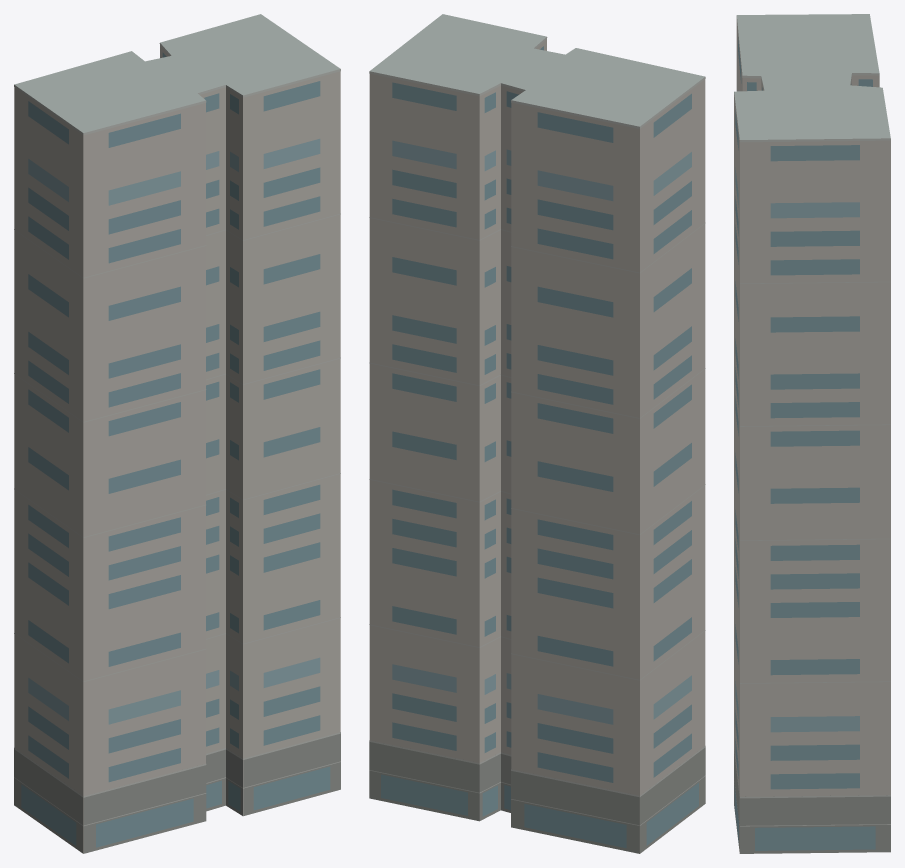
Rendered from survey-upis-32728907.glb.
3 renders of one model, left to right at view 1: azimuth 30°, elevation 25°; view 2: azimuth 150°, elevation 25°; view 3: azimuth 270°, elevation 25°, orthographic.
Visible parts, largest first — view 1: survey-upis-32728907.tmp; view 2: survey-upis-32728907.tmp; view 3: survey-upis-32728907.tmp.
Part boxes in pixels (x1,y1,x2,y2): survey-upis-32728907.tmp: (14, 14, 340, 853); survey-upis-32728907.tmp: (369, 14, 705, 853); survey-upis-32728907.tmp: (734, 14, 890, 853).
Bounding box in the file's own units: 28.92 × 76.25 × 15.2.
